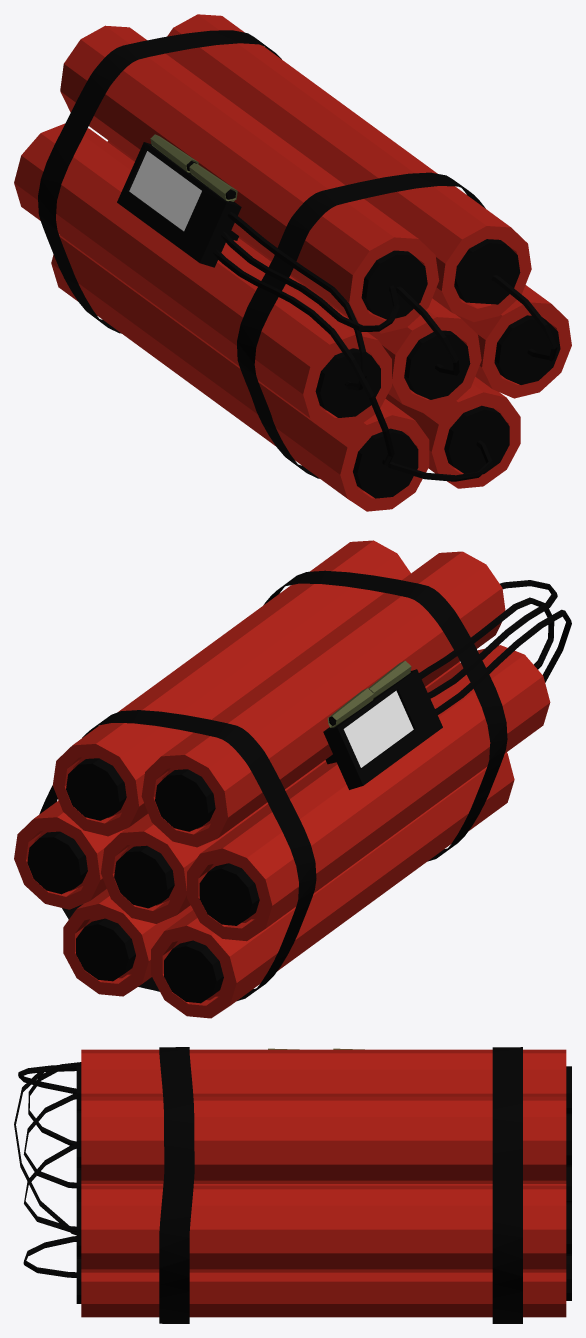
The model's file is TNT 1.fbx.
3 views of the same model, one above another, from view 1: azimuth 30°, elevation 25°; view 2: azimuth 150°, elevation 25°; view 3: azimuth 270°, elevation 25° (orthographic). The views are drawn at different scales.
Visible parts, largest first — view 1: Cylinder.013; view 2: Cylinder.013; view 3: Cylinder.013.
Part boxes in pixels (x1,y1,x2,y2): Cylinder.013: (14, 14, 571, 511); Cylinder.013: (14, 540, 571, 1018); Cylinder.013: (14, 1047, 571, 1323).
Size of the model in its own units: 0.4153 by 0.4052 by 0.8733.
